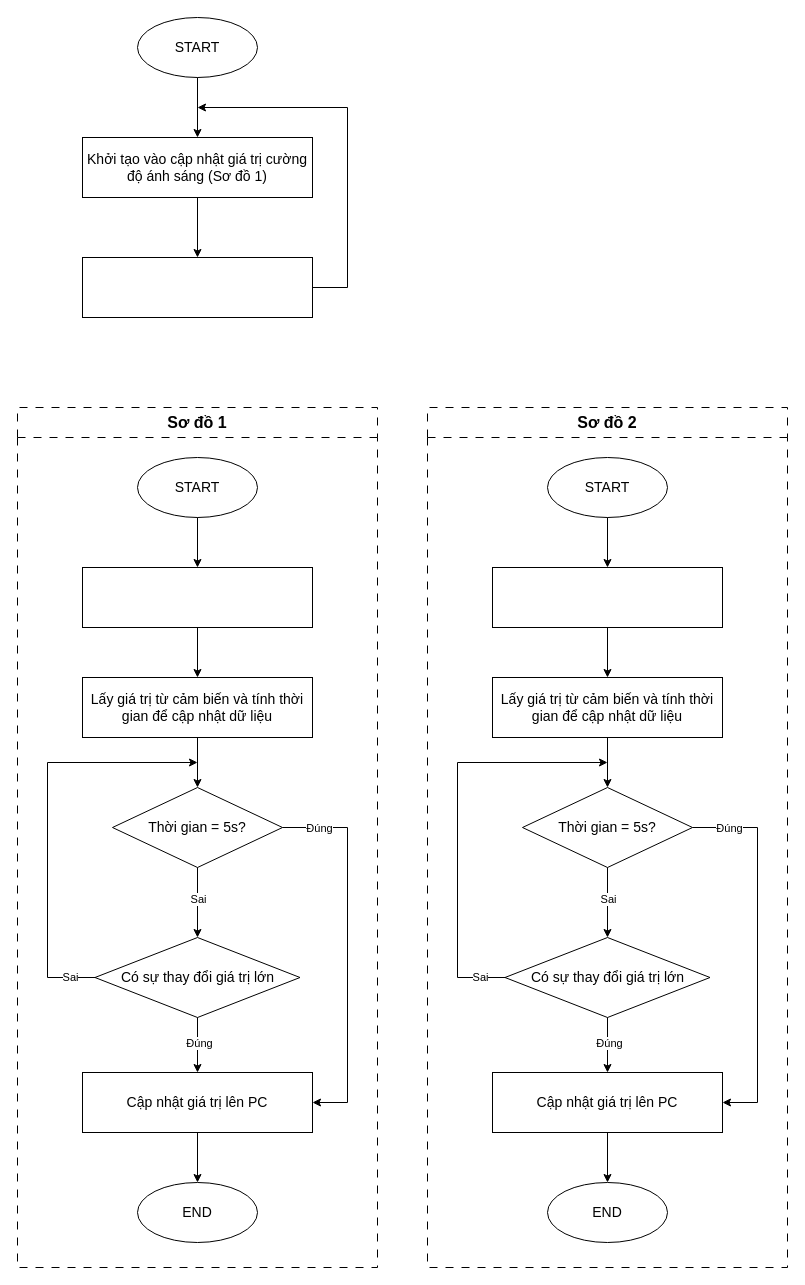
Image size: 805x1285. Some labels were removed from this diagram. Here are the shapes that lost their labels. From the top down, the centre of each, then its label:
the point at 197,287: Khởi tạo và cập nhật giá trị nhiệt độ, độ ẩm (Sơ đồ 2)
the point at 197,597: Khởi tạo cảm biến ánh sáng
the point at 607,597: Khởi tạo cảm biến nhiệt độ, độ ẩm
